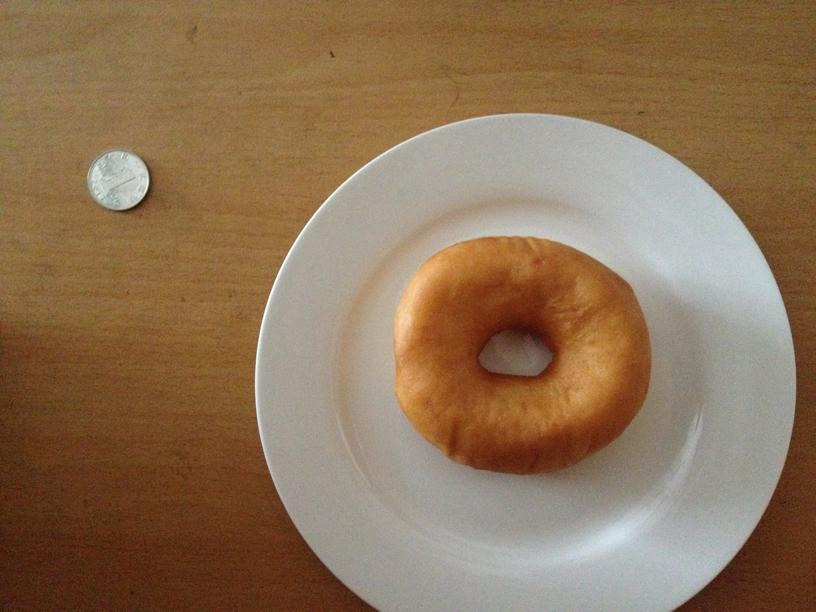coin: (82, 149, 150, 212)
doughnut: (391, 240, 651, 475)
